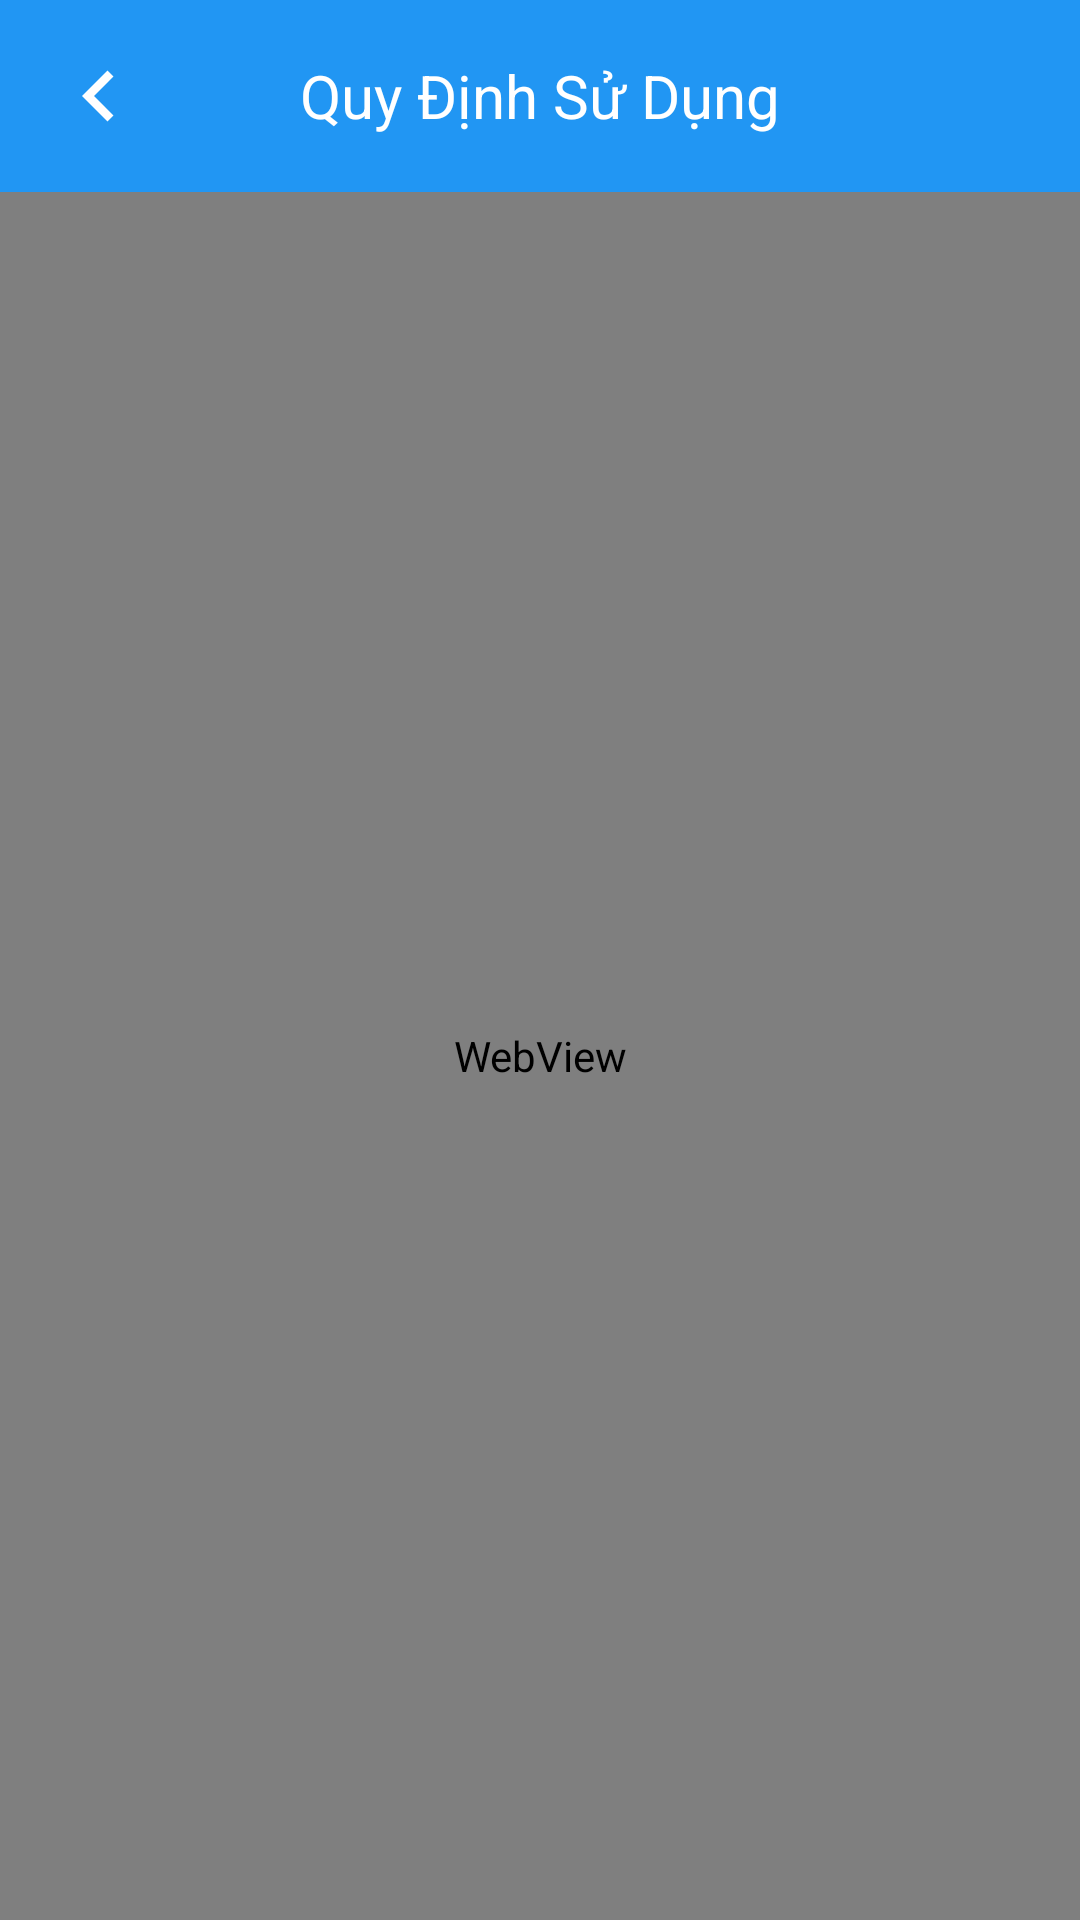

Where icons sit on this 1080 x 1920 app screen, as {"x1": x1, "y1": y1, "x2": x2, "y2": y2}:
Quay lại: {"x1": 82, "y1": 70, "x2": 114, "y2": 122}
